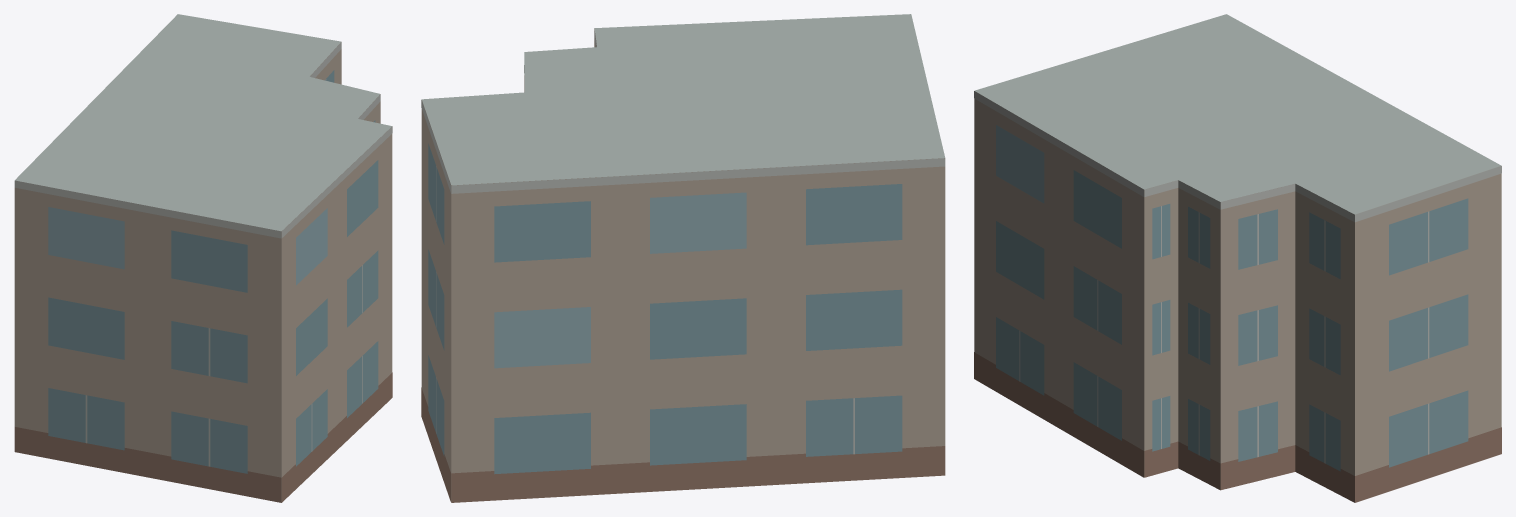
The model's file is survey-upis-32948211.glb.
The picture shows the model from 3 angles, left to right: view 1: azimuth 30°, elevation 25°; view 2: azimuth 150°, elevation 25°; view 3: azimuth 270°, elevation 25°; orthographic projection. The views are drawn at different scales.
Visible parts, largest first — view 1: survey-upis-32948211.tmp; view 2: survey-upis-32948211.tmp; view 3: survey-upis-32948211.tmp.
Boxes of the visible parts, x1,y1,x2,y2 form: survey-upis-32948211.tmp: [14, 14, 392, 502]; survey-upis-32948211.tmp: [421, 14, 945, 502]; survey-upis-32948211.tmp: [974, 14, 1501, 502].
Bounding box in the file's own units: 13.67 × 9.15 × 15.19.
